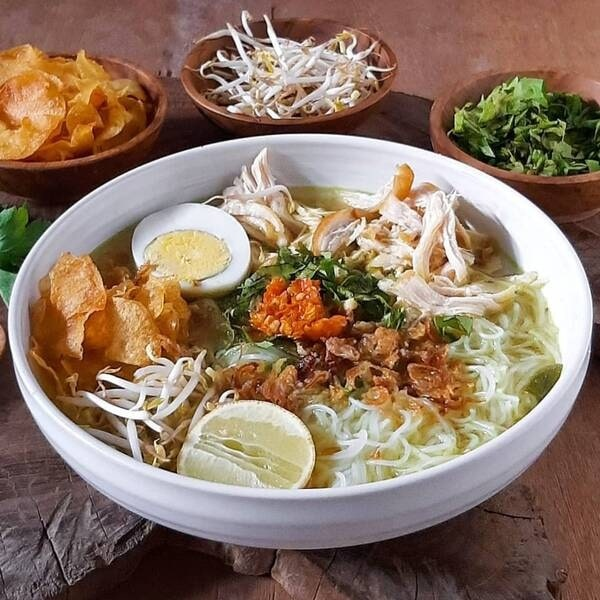soto: (25, 144, 561, 537)
